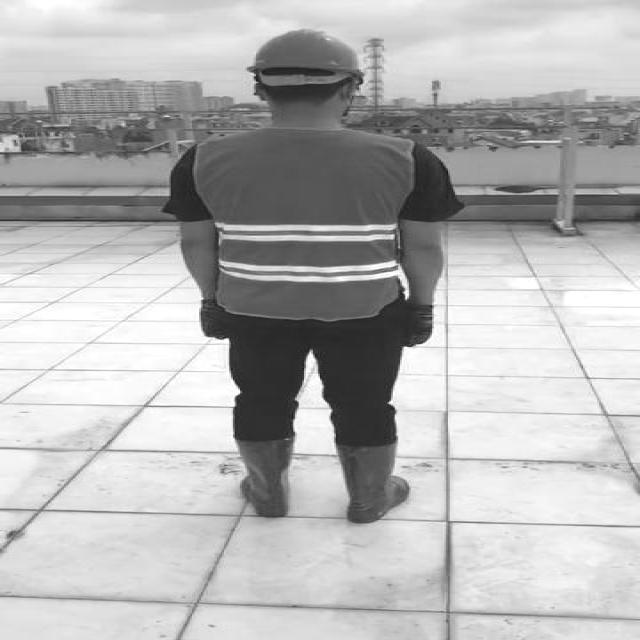boots: (334, 443, 411, 524), (233, 437, 299, 519)
hand_glove: (404, 306, 436, 347), (199, 301, 229, 340)
head_helmet: (239, 27, 365, 79)
person: (162, 25, 458, 532)
vest: (190, 130, 409, 316)
